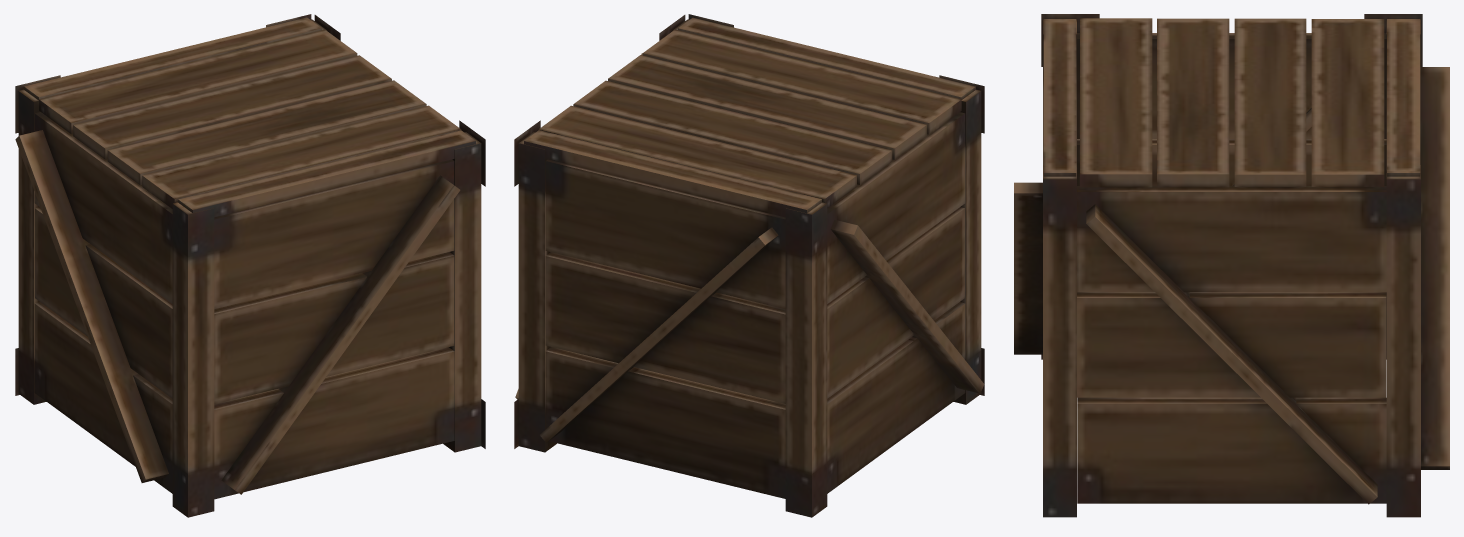
Rendered from crate.glb.
3 views of the same model, side by side, from view 1: azimuth 30°, elevation 25°; view 2: azimuth 150°, elevation 25°; view 3: azimuth 270°, elevation 25° (orthographic). The views are drawn at different scales.
Parts seen in each view (by area): view 1: crate; view 2: crate; view 3: crate.
Boxes of the visible parts, x1,y1,x2,y2 form: crate: (15,14,485,517); crate: (514,14,984,517); crate: (1014,14,1449,517).
Bounding box in the file's own units: 0.9456 × 0.8264 × 0.9448.
Materials: 1 (1 with a texture image).
